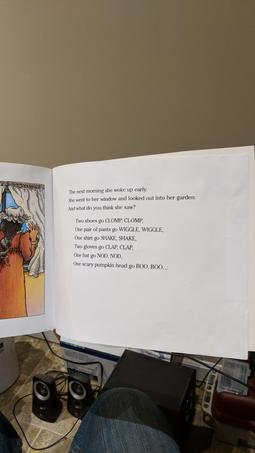text block: (60, 184, 199, 282)
